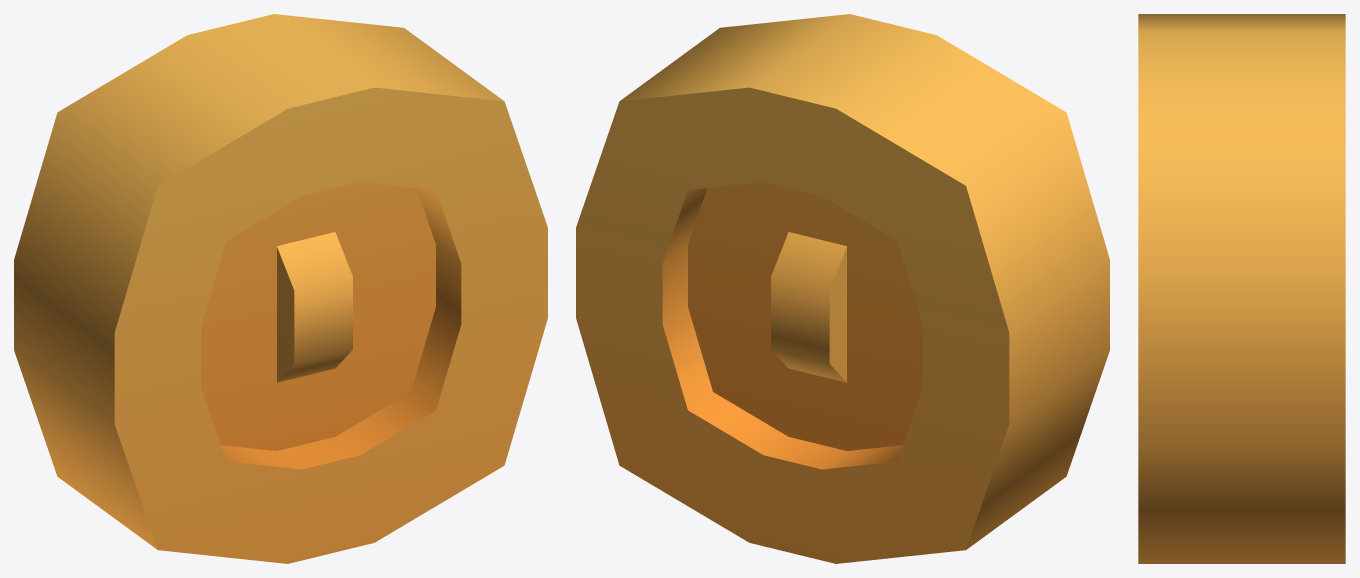
File: coin.glb
3 renders of one model, left to right at view 1: azimuth 30°, elevation 25°; view 2: azimuth 150°, elevation 25°; view 3: azimuth 270°, elevation 25°, orthographic. The views are drawn at different scales.
Parts seen in each view (by area): view 1: coin; view 2: coin; view 3: coin.
Part boxes in pixels (x1=…): coin: x1=14, y1=14, x2=547, y2=563; coin: x1=576, y1=14, x2=1109, y2=563; coin: x1=1138, y1=14, x2=1345, y2=563.
Bounding box in the file's own units: 0.415 × 0.4167 × 0.1667.
1 material, 1 textured.
